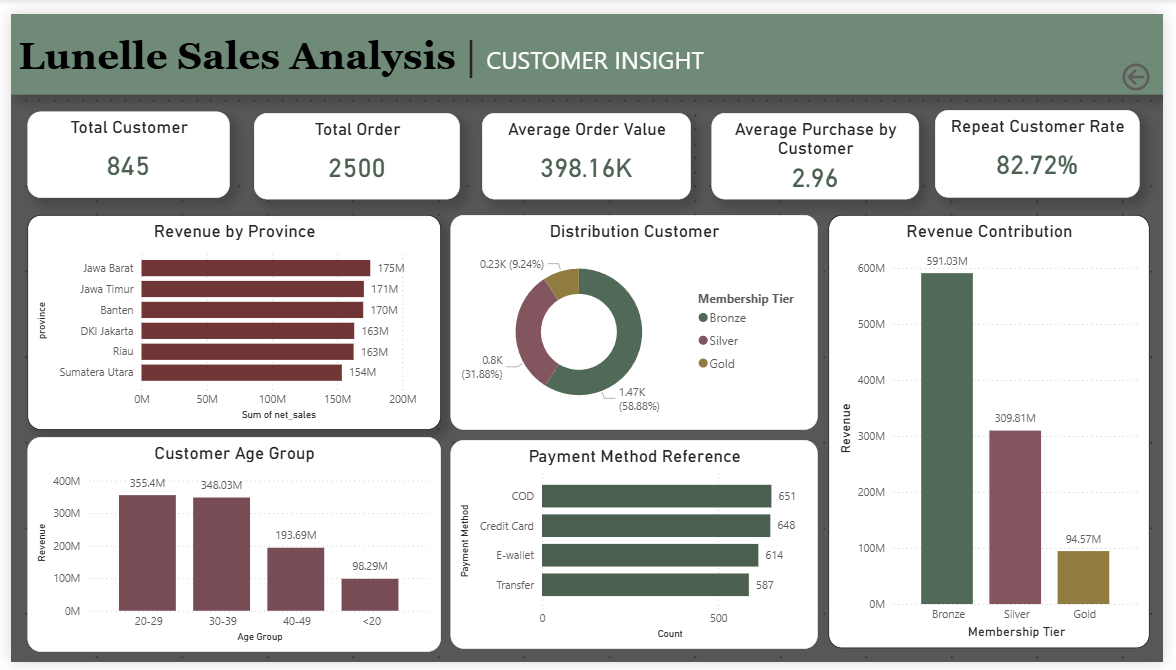

Layout of this report page (visuals, bound fields, positions):
{"tool":"powerbi","page":{"name":"Customer Insight","canvas":[1280,720],"ordinal":2},"visuals":[{"type":"shape","box":[0,0,1280.5,89.5],"z":0},{"type":"clusteredBarChart","title":"Revenue by Province","fields":{"Category":["public transactions.province"],"Y":["Sum(public transactions.net_sales)"]},"box":[17.6,224,459.2,238.4],"z":1000},{"type":"textbox","box":[3.3,9.8,1111.3,71.6],"z":2000},{"type":"card","title":"Average Order Value","fields":{"Values":["Table.AOV"]},"box":[523.2,110.4,232,96],"z":3000},{"type":"card","title":"Total Customer","fields":{"Values":["Table.Total Customers"]},"box":[17.9,109,224.5,96],"z":4000},{"type":"card","title":"Average Purchase by Customer","fields":{"Values":["Table.Average Purchase per Customer"]},"box":[777.6,110.4,230.4,96],"z":5000},{"type":"card","title":"Repeat Customer Rate","fields":{"Values":["Table.Repeat Customer Rate"]},"box":[1027.2,107.2,227.2,97.6],"z":6000},{"type":"card","title":"Total Order","fields":{"Values":["Table.Total Orders"]},"box":[270.4,110.4,228.8,96],"z":7000},{"type":"clusteredBarChart","title":"Payment Method Reference","fields":{"Category":["public transactions.payment_method"],"Y":["CountNonNull(public transactions.payment_method)"]},"box":[488,473.6,408,232],"z":8000},{"type":"clusteredColumnChart","title":"Customer Age Group","fields":{"Category":["public transactions.Age Group"],"Y":["Sum(public transactions.net_sales)"]},"box":[17.6,470.4,459.2,238.4],"z":9000},{"type":"actionButton","box":[1230,50,45,40],"z":10000},{"type":"clusteredColumnChart","title":"Revenue Contribution","fields":{"Category":["public membership_.membership_tier"],"Y":["Sum(public transactions.net_sales)"]},"box":[908.8,224,356.8,481.6],"z":11000},{"type":"donutChart","title":"Customer Distribution","fields":{"Category":["public transactions.membership_tier"],"Y":["CountNonNull(public transactions.membership_tier)"]},"box":[488,224,408,238.4],"z":12000}]}

Visuals, with their boxes in screenshot pixels (x1, y1, x2, y2), scaled from the page's 1280x720 canvas onto the 1176x670 screenshot:
shape: {"x1": 0, "y1": 0, "x2": 1175, "y2": 83}
"Revenue by Province" clusteredBarChart: {"x1": 16, "y1": 208, "x2": 438, "y2": 430}
textbox: {"x1": 3, "y1": 9, "x2": 1024, "y2": 76}
"Average Order Value" card: {"x1": 481, "y1": 103, "x2": 694, "y2": 192}
"Total Customer" card: {"x1": 16, "y1": 101, "x2": 223, "y2": 191}
"Average Purchase by Customer" card: {"x1": 714, "y1": 103, "x2": 926, "y2": 192}
"Repeat Customer Rate" card: {"x1": 944, "y1": 100, "x2": 1152, "y2": 191}
"Total Order" card: {"x1": 248, "y1": 103, "x2": 459, "y2": 192}
"Payment Method Reference" clusteredBarChart: {"x1": 448, "y1": 441, "x2": 823, "y2": 657}
"Customer Age Group" clusteredColumnChart: {"x1": 16, "y1": 438, "x2": 438, "y2": 660}
actionButton: {"x1": 1130, "y1": 47, "x2": 1171, "y2": 84}
"Revenue Contribution" clusteredColumnChart: {"x1": 835, "y1": 208, "x2": 1163, "y2": 657}
"Customer Distribution" donutChart: {"x1": 448, "y1": 208, "x2": 823, "y2": 430}
